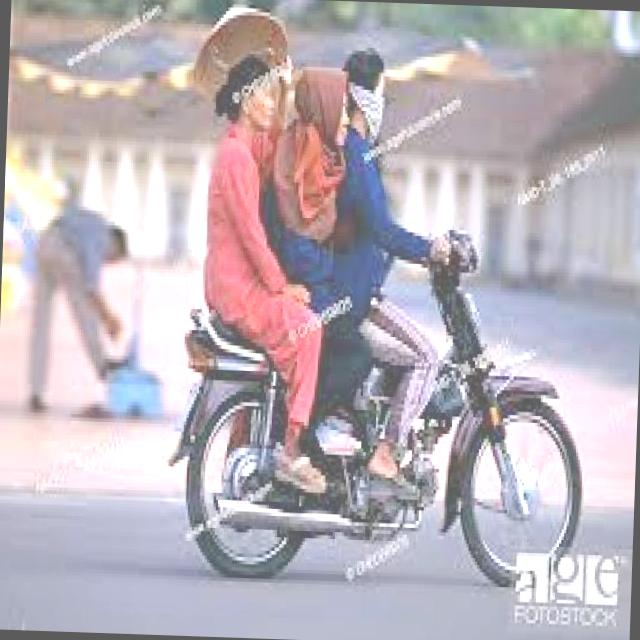motorcycle: (159, 203, 602, 595)
person: (314, 39, 491, 404), (183, 40, 337, 377), (276, 59, 376, 351)
